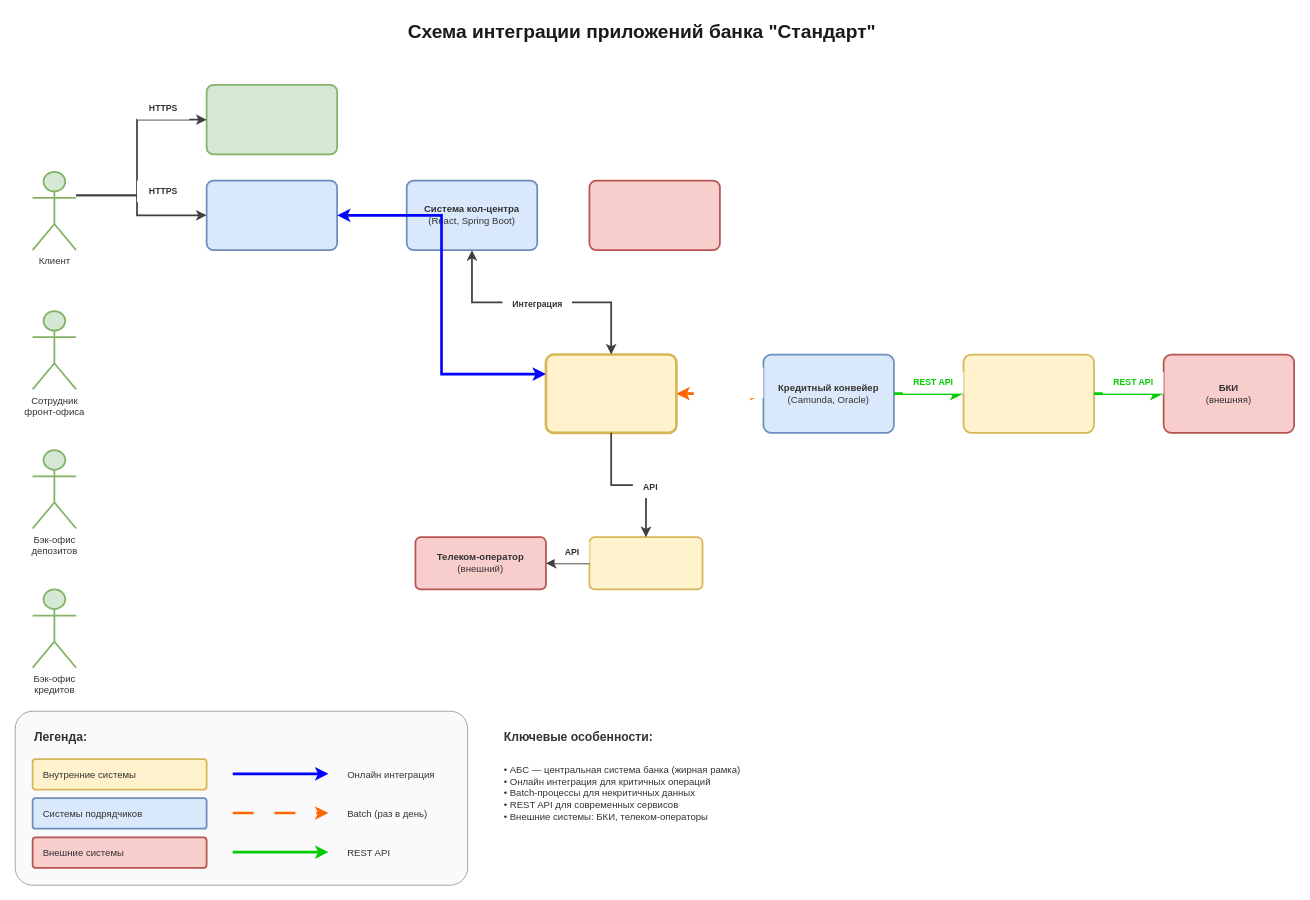
Image size: 1310x900. Some labels were removed from this diagram. Here are the shapes that lost their labels. From the top down, the centre of each, then its label:
the point at 271,119: Сайт (PHP, React.js) (Только маркетинг)
the point at 271,215: Интернет-банк (ASP.NET, MS SQL)
the point at 654,215: Партнёрский кол-центр (внешняя)
the point at 510,273: БД интеграция (онлайн)
the point at 610,393: АБС (Delphi, Oracle)
the point at 728,382: БД (раз в день)
the point at 1028,393: Скоринг (Python, Flask)
the point at 645,563: СМС-шлюз
